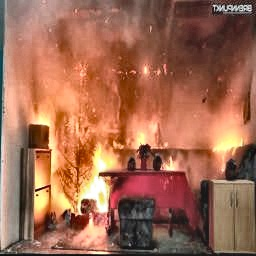fire: (58, 113, 251, 221)
